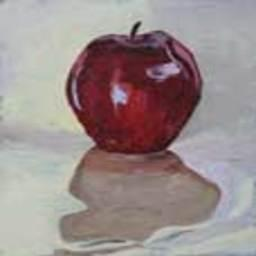apple: (61, 25, 202, 152)
